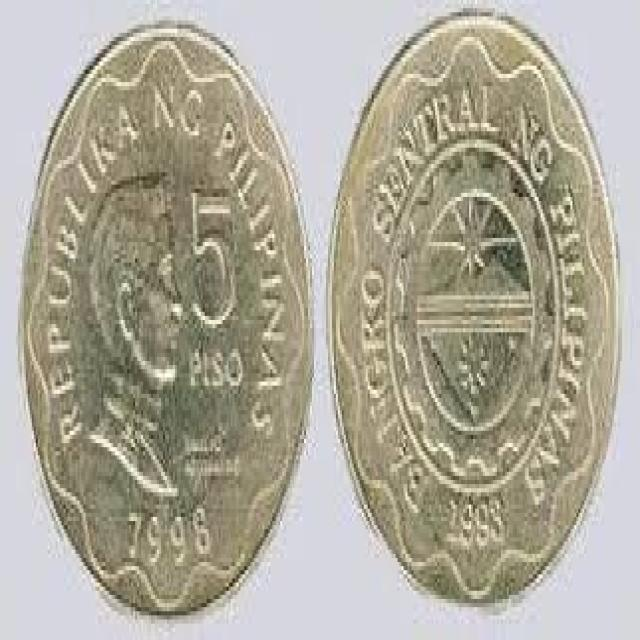5 peso-old: (18, 14, 318, 623), (322, 14, 625, 608)
